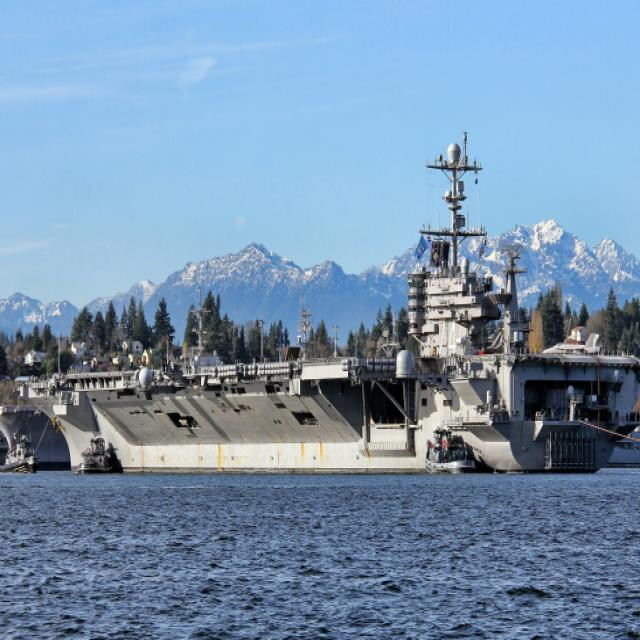Portanaves: (20, 123, 640, 476)
